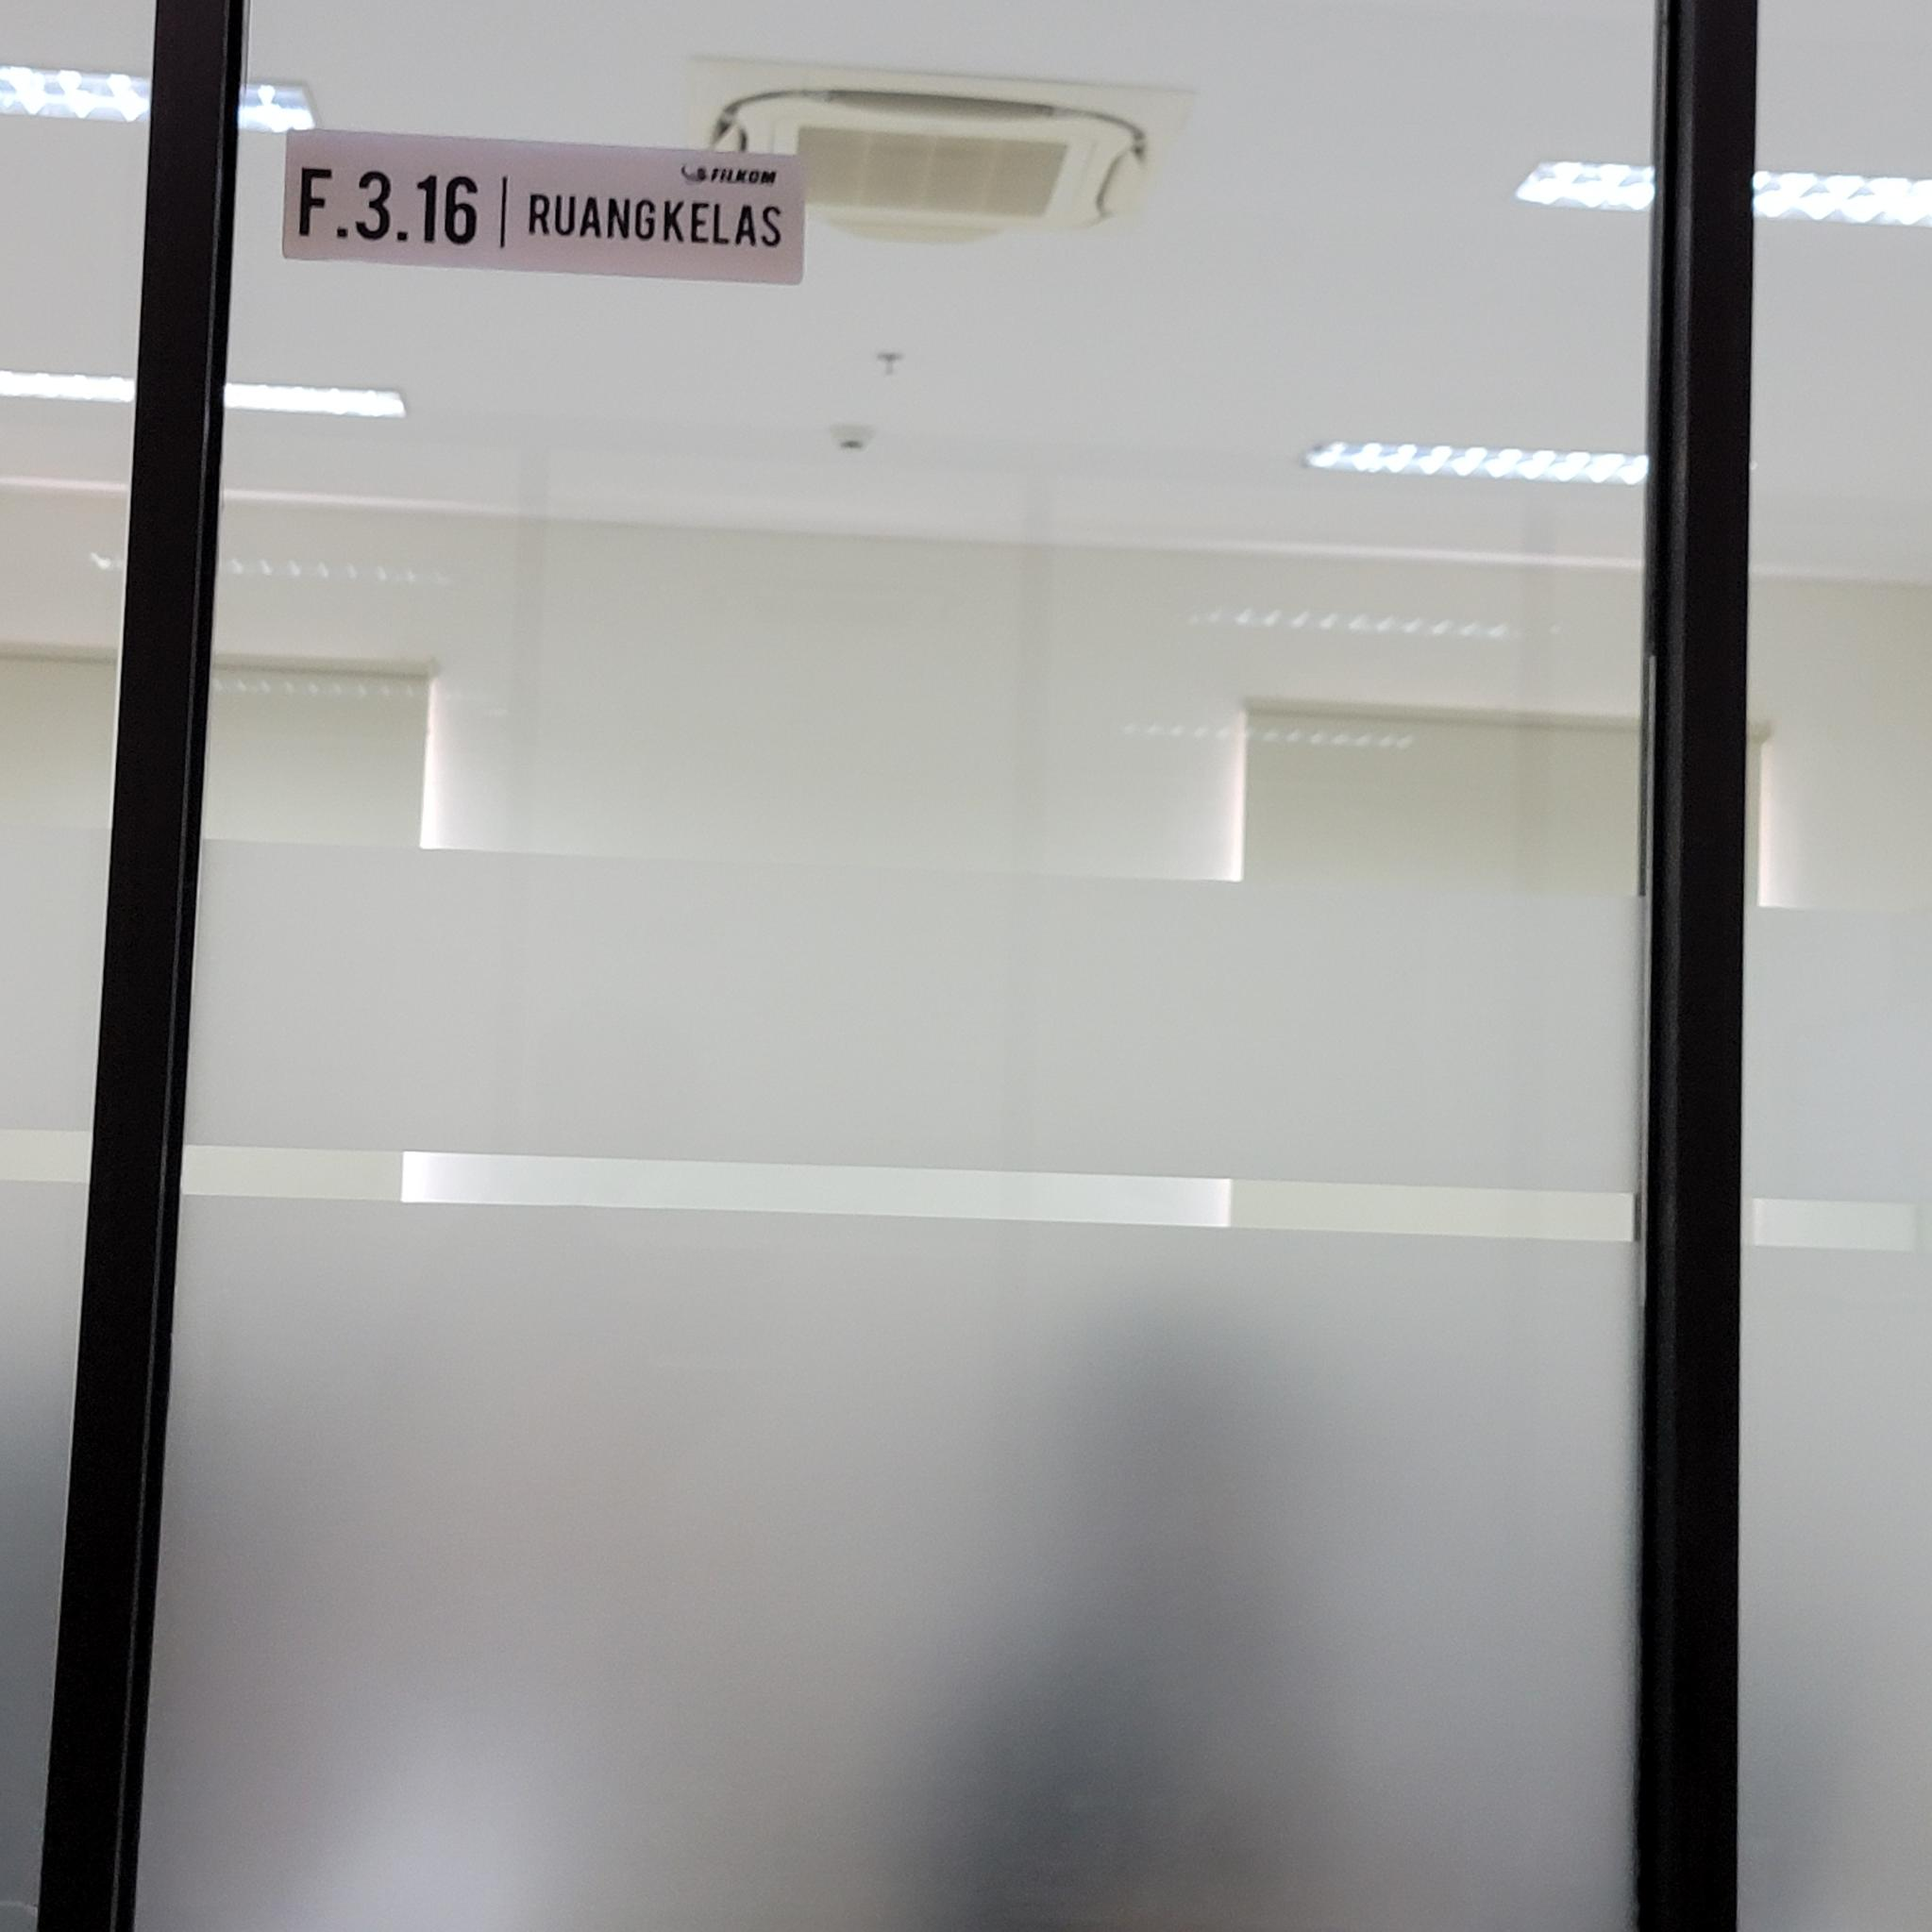plate: (280, 124, 803, 285)
